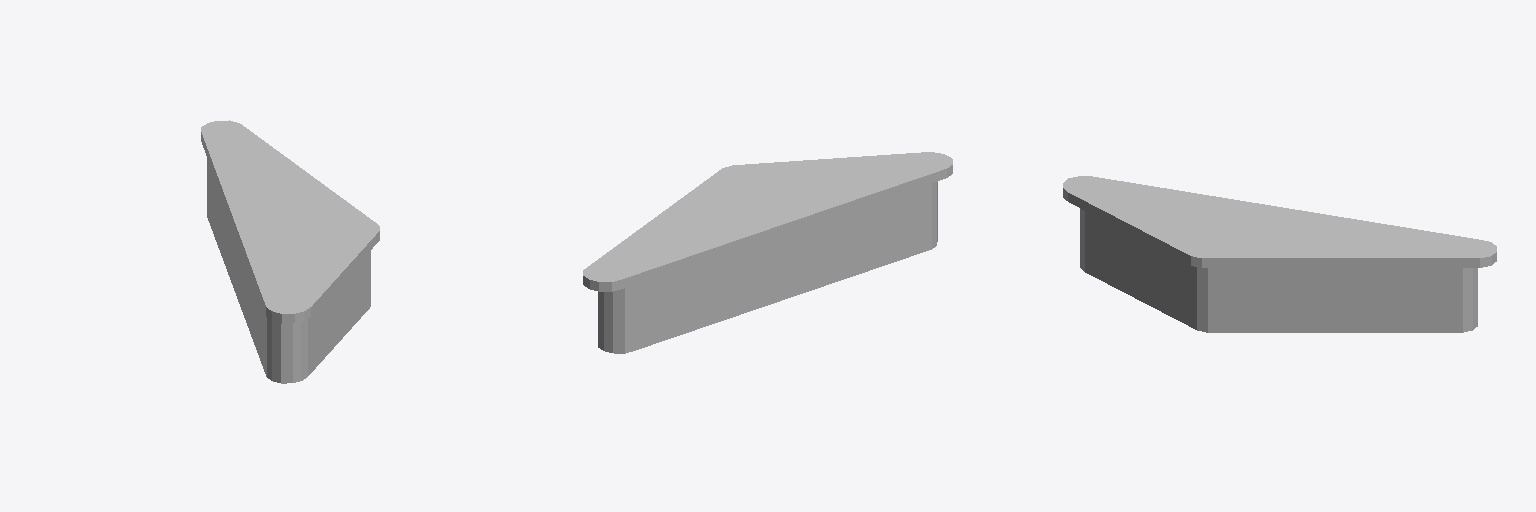
Rendered from slingshot_r.obj.
3 renders of one model, left to right at view 1: azimuth 30°, elevation 25°; view 2: azimuth 150°, elevation 25°; view 3: azimuth 270°, elevation 25°, orthographic.
Parts seen in each view (by area): view 1: Cube; view 2: Cube; view 3: Cube.
Boxes of the visible parts, <box> form: Cube: <box>201,120,379,383</box>; Cube: <box>583,152,952,353</box>; Cube: <box>1063,176,1496,332</box>.
Size of the model in its own units: 1.15 by 0.5021 by 2.55.